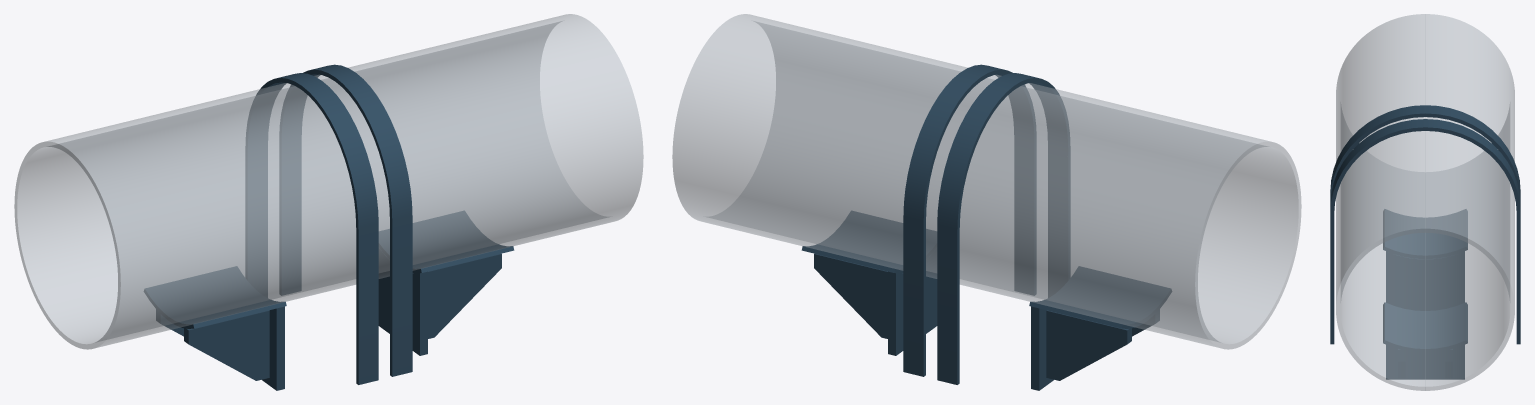
File: TS-669.00.00-18-opora-dn273-ris2.glb
3 views of the same model, side by side, from view 1: azimuth 30°, elevation 25°; view 2: azimuth 150°, elevation 25°; view 3: azimuth 270°, elevation 25° (orthographic). The views are drawn at different scales.
Parts seen in each view (by area): view 1: truba, homut_10, homut_9, upor_8, upor_4, upor_6, upor_2, upor_1, upor_5; view 2: truba, homut_10, homut_9, upor_8, upor_4, upor_7, upor_3, upor_1, upor_5; view 3: truba, upor_5, homut_9, upor_4, upor_8, homut_10, upor_1, upor_2, upor_3.
Part boxes in pixels (bbox=[...]): truba: bbox=[14, 14, 643, 349]; homut_10: bbox=[245, 73, 378, 384]; homut_9: bbox=[279, 64, 412, 376]; upor_8: bbox=[144, 266, 286, 328]; upor_4: bbox=[379, 211, 514, 273]; upor_6: bbox=[184, 310, 269, 380]; upor_2: bbox=[428, 253, 501, 338]; upor_1: bbox=[378, 248, 427, 355]; upor_5: bbox=[262, 306, 284, 390]; truba: bbox=[672, 14, 1301, 349]; homut_10: bbox=[937, 73, 1070, 384]; homut_9: bbox=[903, 64, 1036, 376]; upor_8: bbox=[1029, 266, 1171, 328]; upor_4: bbox=[801, 211, 936, 273]; upor_7: bbox=[1046, 310, 1131, 380]; upor_3: bbox=[814, 253, 887, 338]; upor_1: bbox=[888, 248, 937, 355]; upor_5: bbox=[1031, 306, 1053, 390]; truba: bbox=[1336, 14, 1514, 390]; upor_5: bbox=[1386, 251, 1464, 310]; homut_9: bbox=[1330, 119, 1520, 344]; upor_4: bbox=[1383, 302, 1467, 352]; upor_8: bbox=[1383, 209, 1467, 258]; homut_10: bbox=[1330, 105, 1520, 202]; upor_1: bbox=[1386, 345, 1464, 379]; upor_2: bbox=[1398, 349, 1405, 378]; upor_3: bbox=[1445, 349, 1452, 378].
Bounding box in the file's own units: 774 × 391 × 290.
